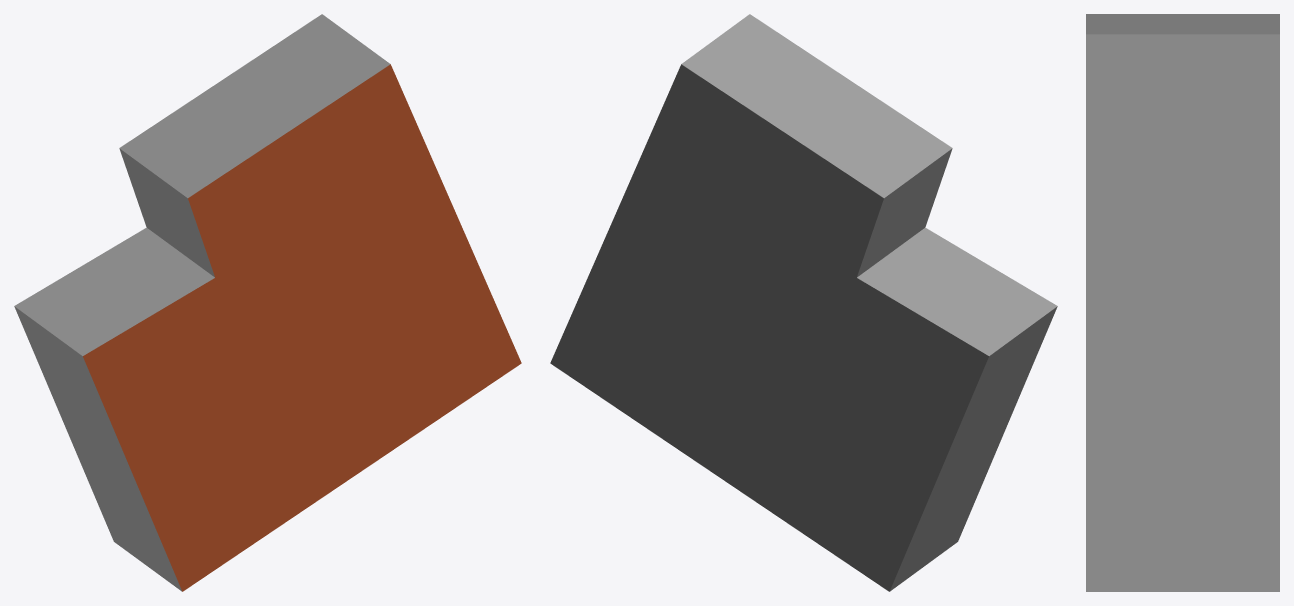
File: construction_1686_assumed_A_Casa_h6m.obj
3 views of the same model, side by side, from view 1: azimuth 30°, elevation 25°; view 2: azimuth 150°, elevation 25°; view 3: azimuth 270°, elevation 25° (orthographic). The views are drawn at different scales.
Visible parts, largest first — view 1: construction_1686_assumed_A_Casa; view 2: construction_1686_assumed_A_Casa; view 3: construction_1686_assumed_A_Casa.
Boxes of the visible parts, x1,y1,x2,y2 form: construction_1686_assumed_A_Casa: (14, 14, 521, 591); construction_1686_assumed_A_Casa: (550, 14, 1057, 591); construction_1686_assumed_A_Casa: (1086, 14, 1279, 591).
Bounding box in the file's own units: 22.17 × 23.01 × 6.
